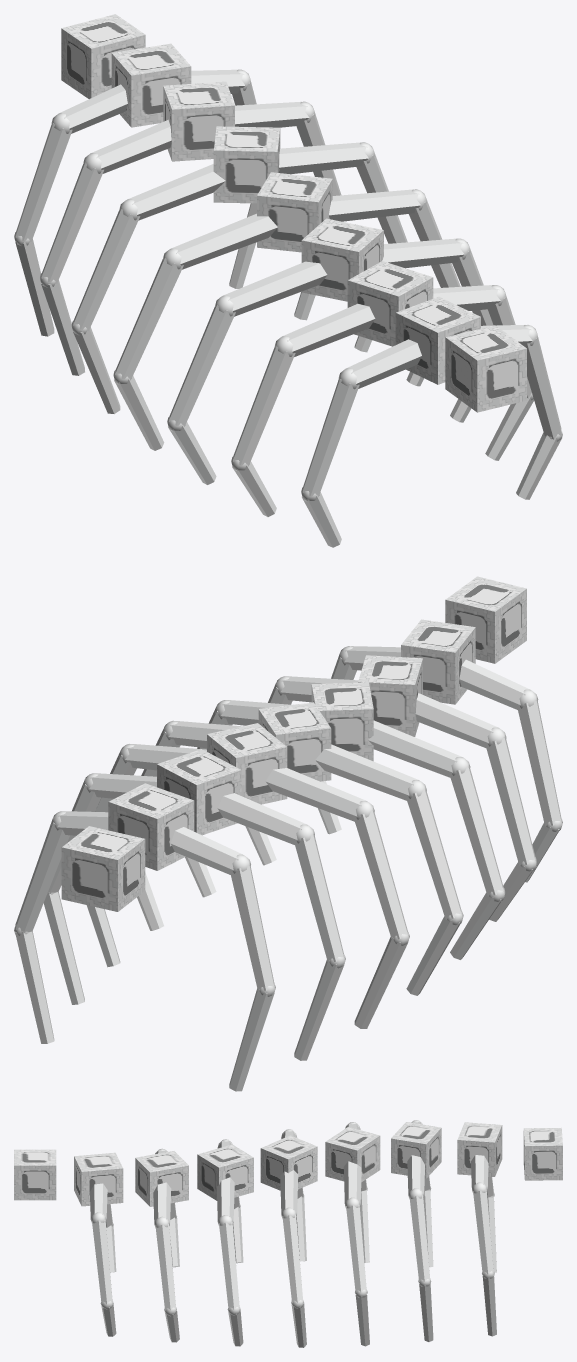
Rendered from WhaleRibcage.glb.
The picture shows the model from 3 angles, top to bottom: view 1: azimuth 30°, elevation 25°; view 2: azimuth 150°, elevation 25°; view 3: azimuth 270°, elevation 25°; orthographic projection. The views are drawn at different scales.
Parts seen in each view (by area): view 1: WhaleRibcage; view 2: WhaleRibcage; view 3: WhaleRibcage.
Boxes of the visible parts, <box> form: WhaleRibcage: <box>14,14,562,547</box>; WhaleRibcage: <box>14,576,562,1091</box>; WhaleRibcage: <box>14,1120,562,1347</box>.
Bounding box in the file's own units: 6.31 × 4.49 × 12.96.
Materials: 1 (1 with a texture image).
